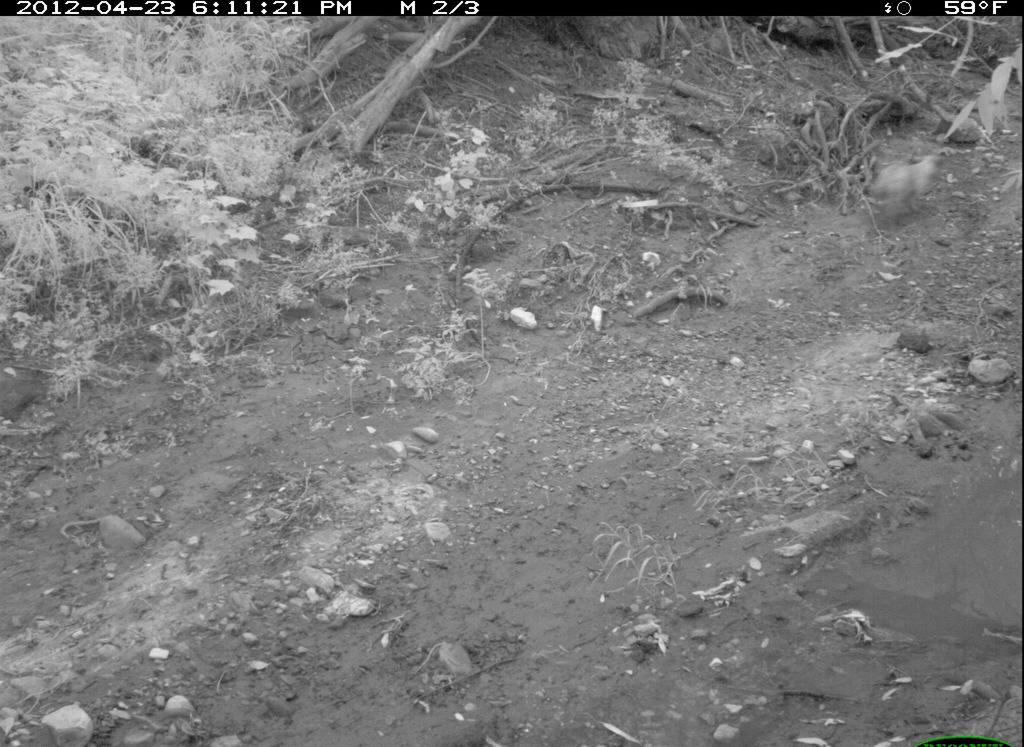dog: (840, 135, 967, 232)
